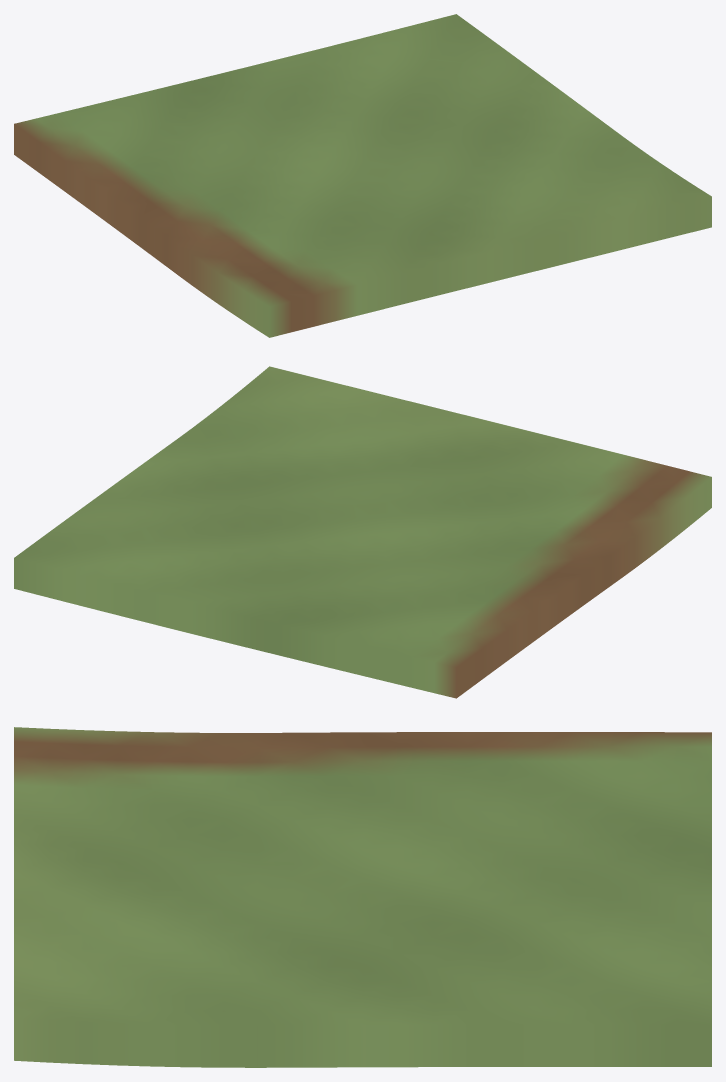
3 renders of one model, top to bottom at view 1: azimuth 30°, elevation 25°; view 2: azimuth 150°, elevation 25°; view 3: azimuth 270°, elevation 25°, orthographic. The views are drawn at different scales.
Visible parts, largest first — view 1: terrain; view 2: terrain; view 3: terrain.
Boxes of the visible parts, x1,y1,x2,y2 form: terrain: [14, 14, 711, 337]; terrain: [14, 366, 711, 698]; terrain: [14, 727, 711, 1067].
Size of the model in its own units: 30 by 2.45 by 30.
